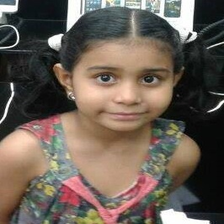no_mask: (73, 45, 175, 131)
